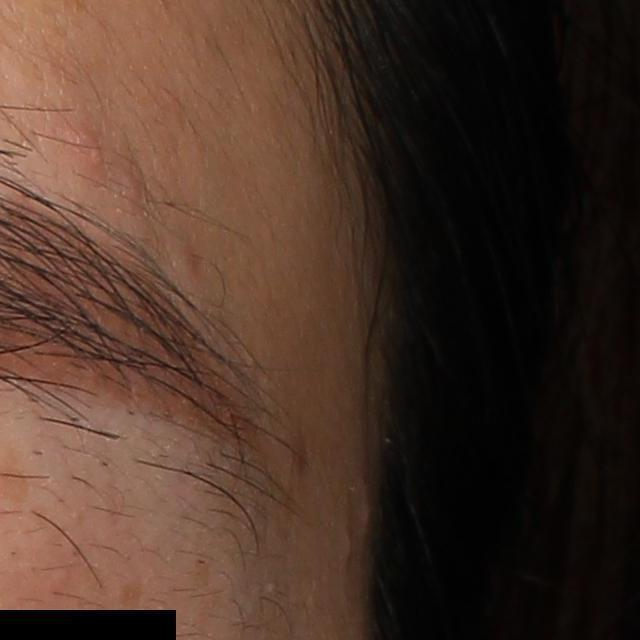melasma: (114, 574, 148, 619)
papule: (120, 168, 146, 207)
